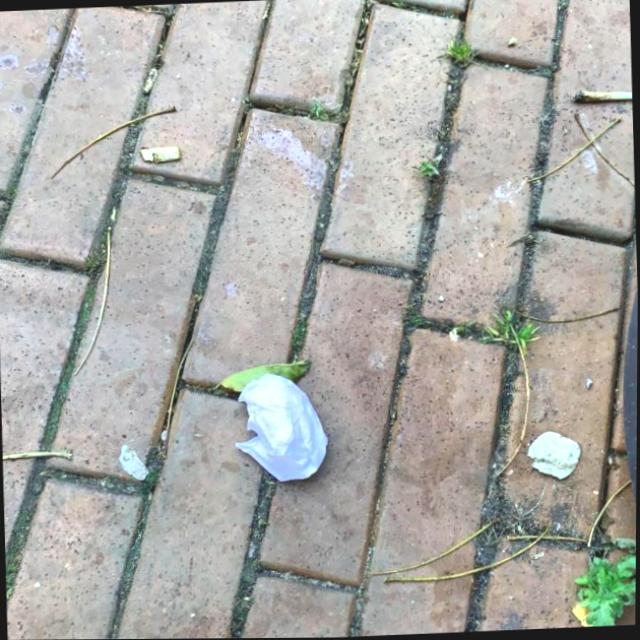Paper: (230, 370, 333, 482)
